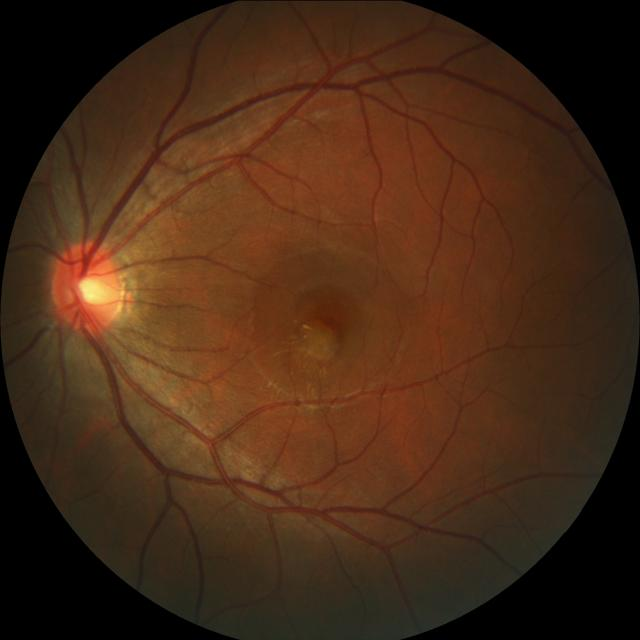OC: (72, 269, 107, 308)
OD: (50, 240, 123, 330)
